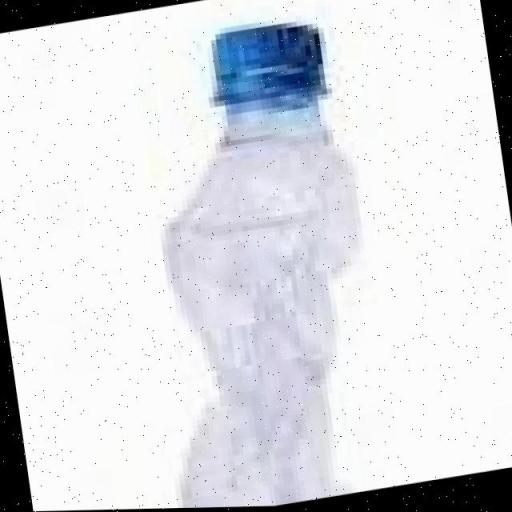plastic: (99, 4, 402, 510)
